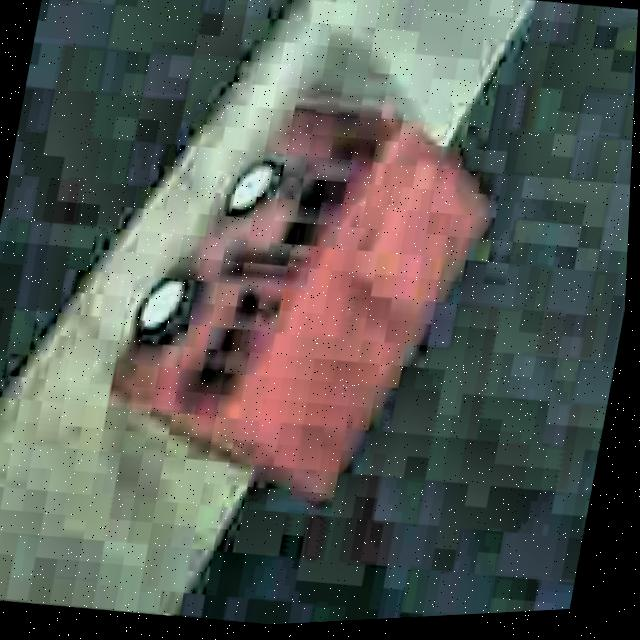bus: (90, 70, 513, 523)
